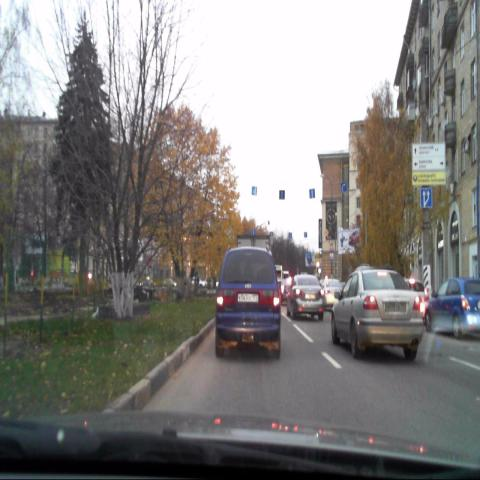5_15_3: (420, 188, 432, 208)
